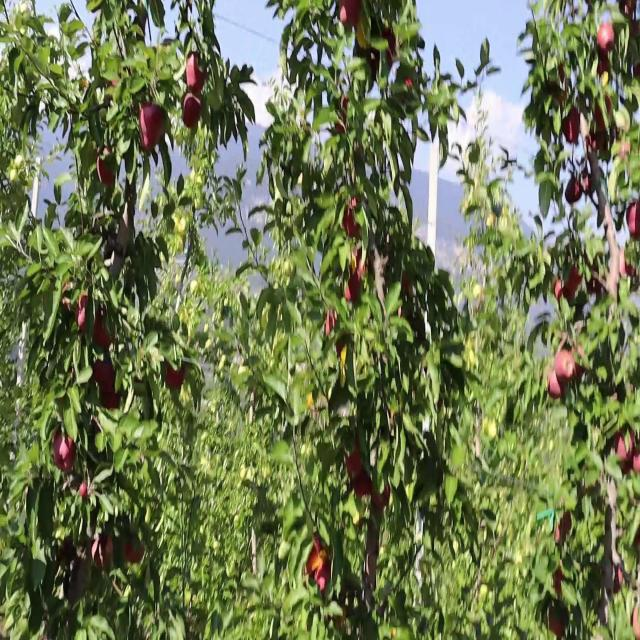apple: (308, 540, 332, 597), (140, 106, 166, 153), (52, 433, 77, 475), (92, 305, 114, 352), (376, 28, 397, 71), (188, 49, 208, 94), (92, 533, 115, 571), (92, 362, 116, 396), (344, 440, 364, 478), (184, 92, 203, 130), (552, 63, 568, 107), (344, 199, 361, 240), (380, 28, 397, 69), (340, 0, 363, 30), (616, 433, 636, 466), (564, 106, 581, 144), (164, 362, 186, 391), (556, 348, 573, 384), (100, 149, 116, 187), (596, 92, 612, 130), (372, 483, 392, 512), (348, 270, 364, 306), (76, 291, 89, 334), (600, 21, 616, 55), (624, 7, 640, 41), (556, 511, 572, 544), (548, 369, 564, 400), (336, 99, 349, 135), (128, 540, 144, 567), (548, 611, 564, 638), (568, 270, 583, 297), (124, 540, 140, 565), (596, 56, 612, 80), (356, 476, 372, 500), (628, 206, 640, 238), (616, 113, 630, 139), (356, 28, 371, 52), (104, 391, 121, 412), (120, 220, 131, 252), (556, 568, 565, 603), (568, 184, 582, 206), (624, 0, 638, 21), (632, 206, 640, 242), (632, 604, 640, 639), (596, 135, 610, 155), (556, 277, 567, 302), (620, 142, 632, 164), (624, 1, 637, 21), (576, 348, 584, 379), (64, 284, 72, 315), (592, 277, 603, 297), (584, 177, 595, 197), (328, 312, 337, 336), (80, 483, 91, 500), (632, 21, 640, 41), (404, 277, 412, 297), (633, 455, 640, 476), (636, 63, 640, 80), (636, 533, 640, 549)
